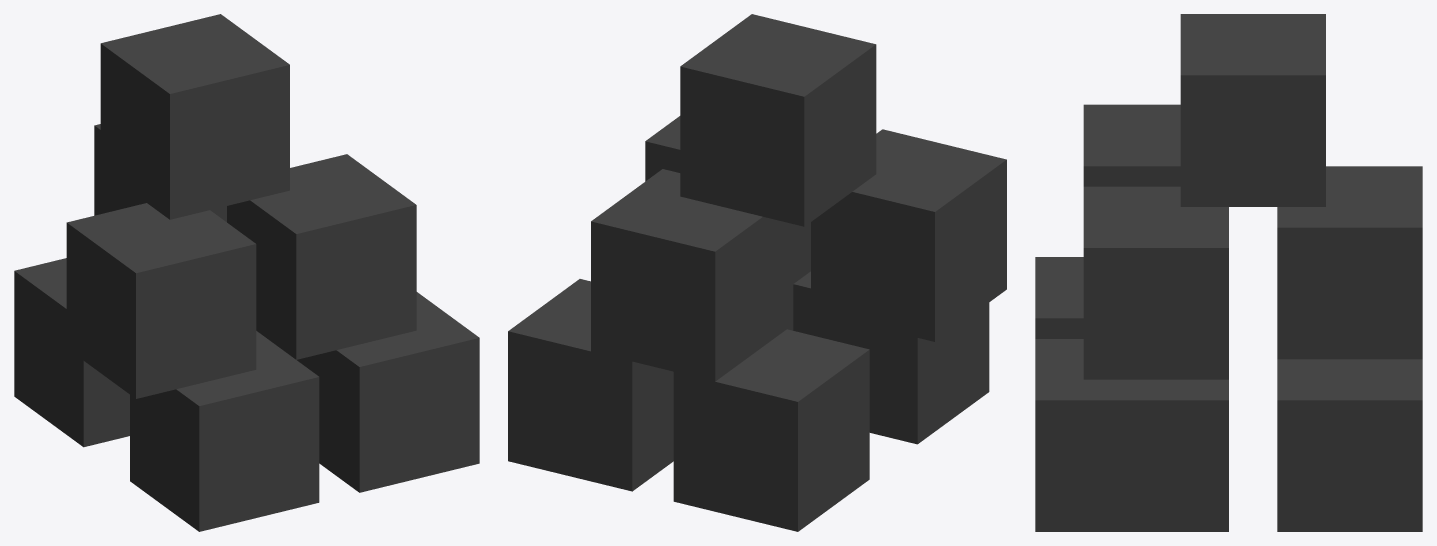
The model's file is MuroAzucar.obj.
3 renders of one model, left to right at view 1: azimuth 30°, elevation 25°; view 2: azimuth 150°, elevation 25°; view 3: azimuth 270°, elevation 25°, orthographic. The views are drawn at different scales.
Bounding box in the file's own units: 0.8 × 0.9 × 0.8.
Materials: 1 (1 with a texture image).
